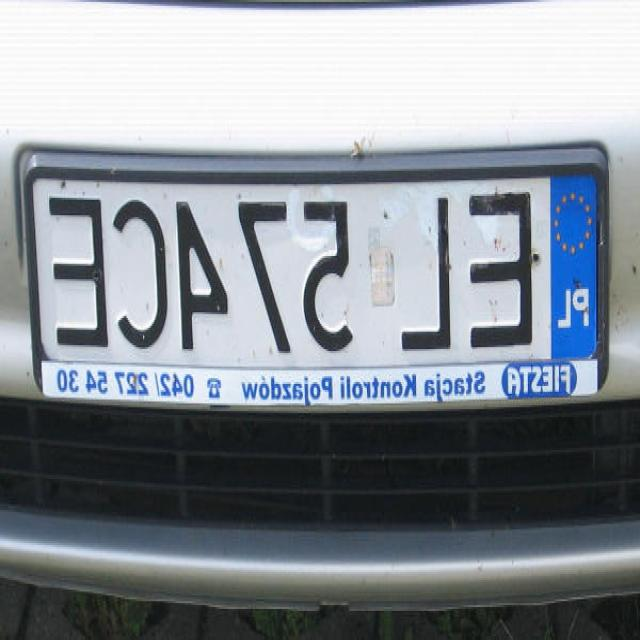pl_license_plate: (34, 172, 597, 360)
